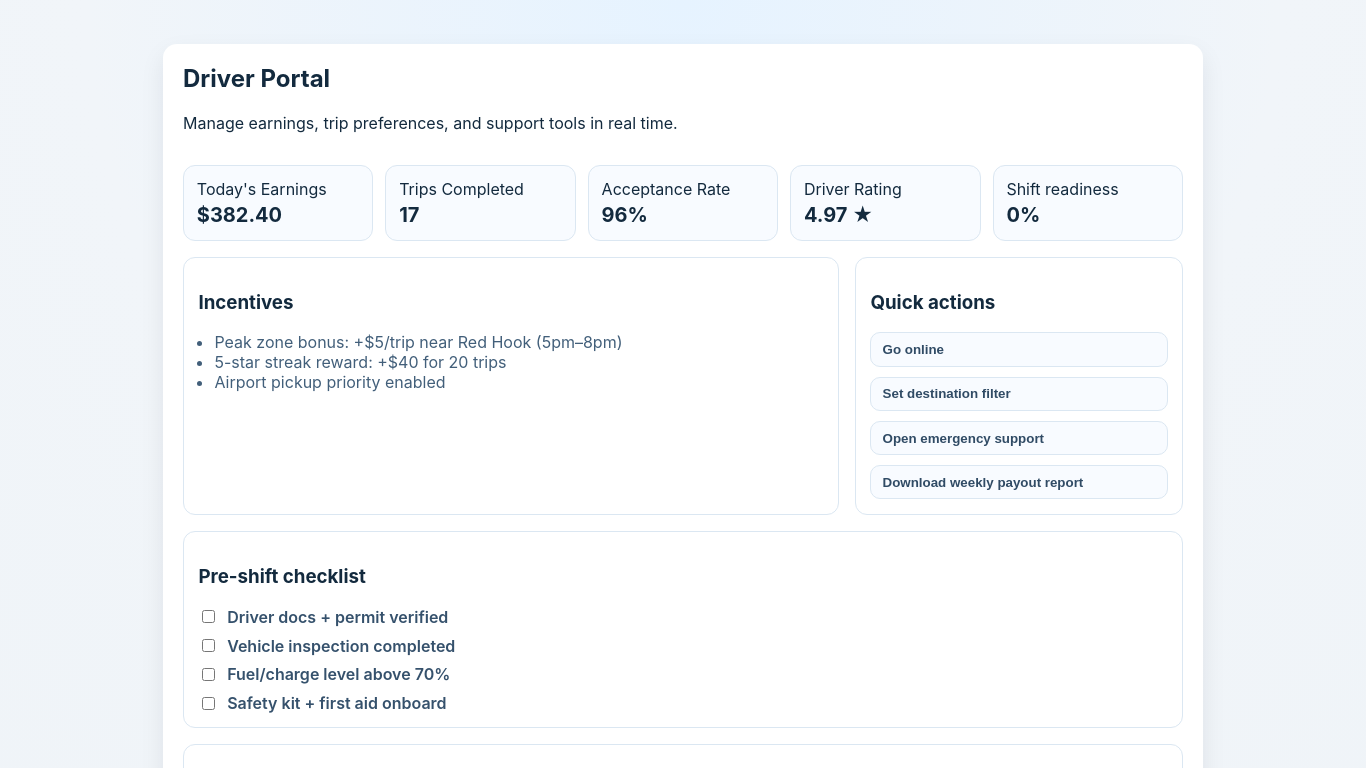
Test: updates readiness score when checklist items are toggled
This screenshot has width=1366, height=768.
Check: the text "0%" is shown, box [1006,203,1040,227]
Click the checkbox labelled "Driver docs + permit verified".
click(209, 617)  # box [202,610,215,623]
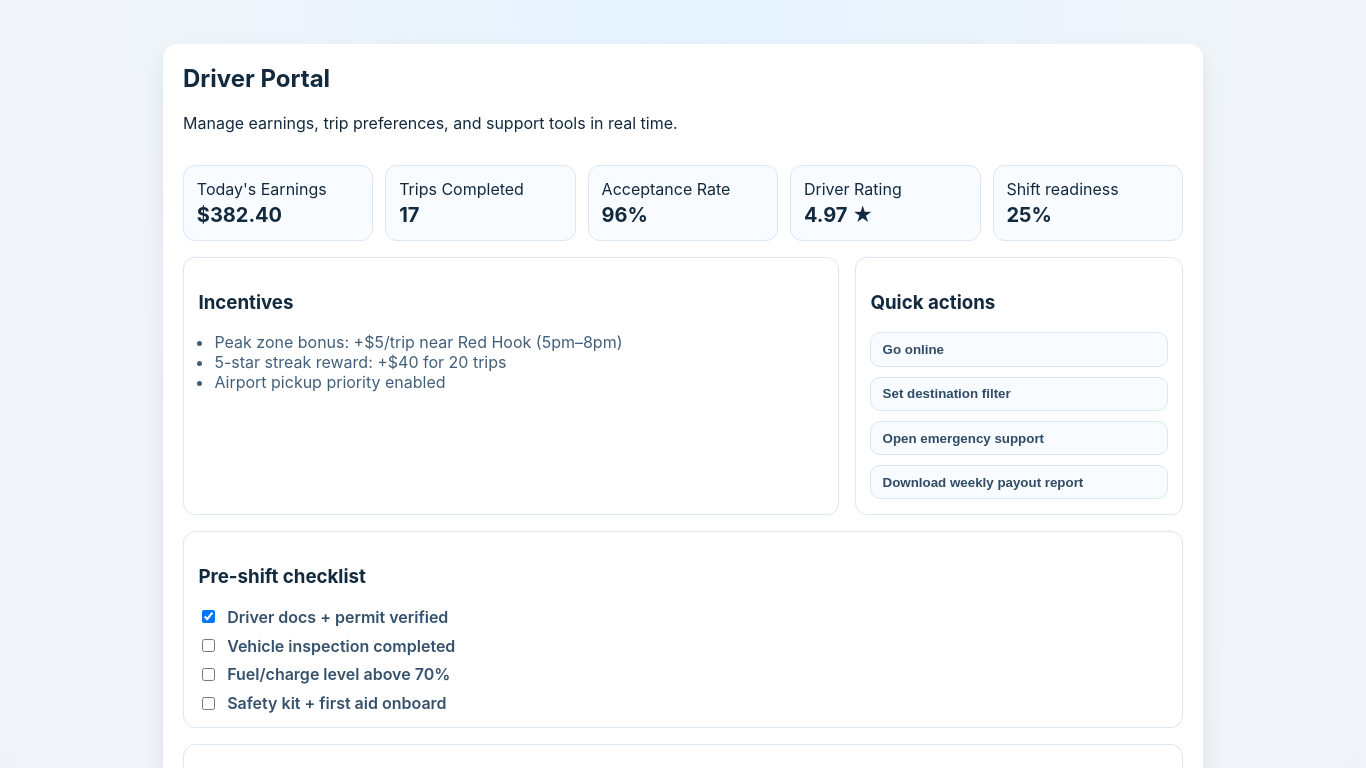
Click the checkbox labelled "Vehicle inspection completed".
click(209, 646)  # box [202,639,215,652]
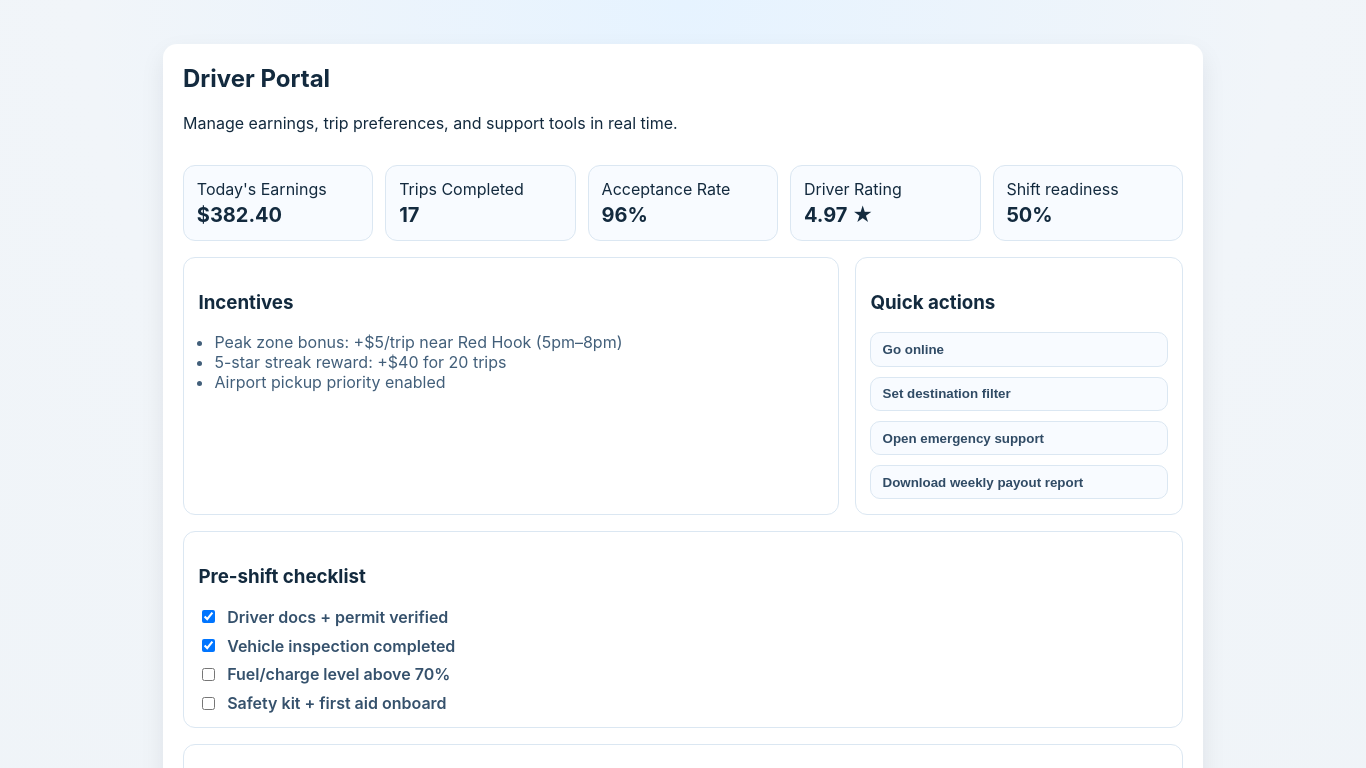
Check: the text "50%" is shown, box [1006,203,1053,227]
